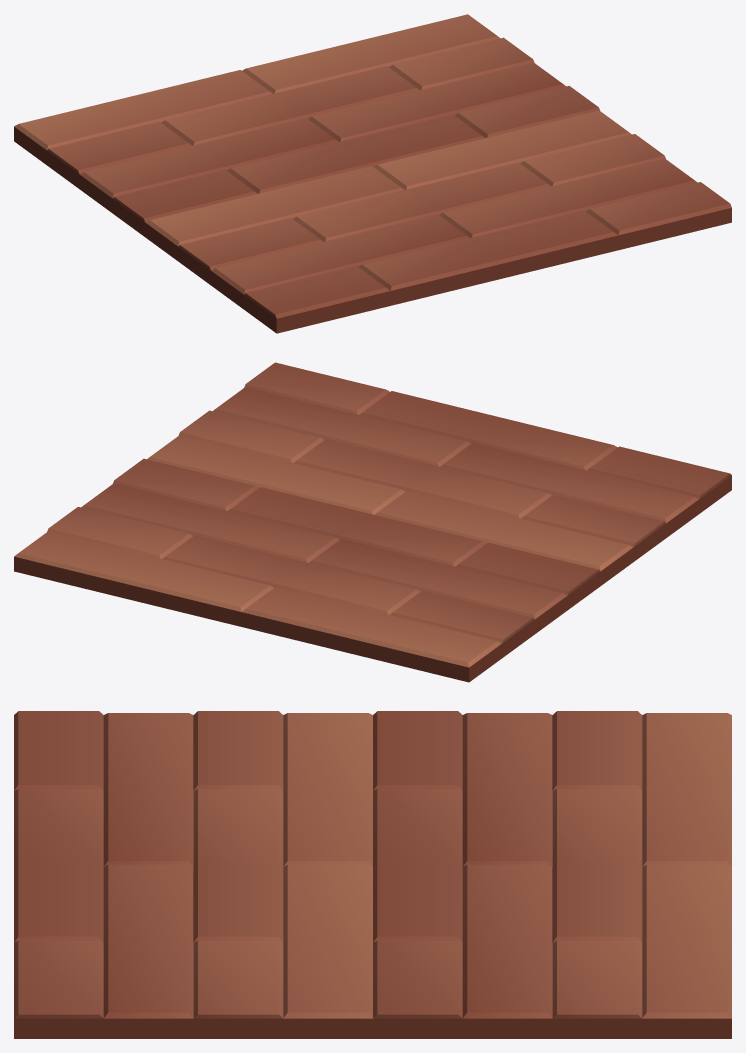
File: floor_wood_large.gltf.glb
The picture shows the model from 3 angles, top to bottom: view 1: azimuth 30°, elevation 25°; view 2: azimuth 150°, elevation 25°; view 3: azimuth 270°, elevation 25°; orthographic projection. The views are drawn at different scales.
Parts seen in each view (by area): view 1: floor_wood_large; view 2: floor_wood_large; view 3: floor_wood_large.
Boxes of the visible parts, bbox=[...] form: floor_wood_large: bbox=[14, 14, 731, 333]; floor_wood_large: bbox=[14, 362, 731, 682]; floor_wood_large: bbox=[14, 711, 731, 1038].
Bounding box in the file's own units: 4 × 0.15 × 4.
Materials: 1 (1 with a texture image).
